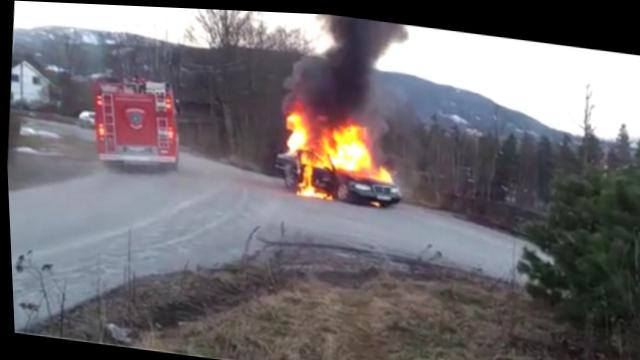fire: (330, 123, 373, 169), (285, 110, 307, 151), (296, 182, 333, 198), (318, 131, 334, 165), (299, 151, 321, 166), (376, 163, 395, 179), (300, 161, 313, 184)
